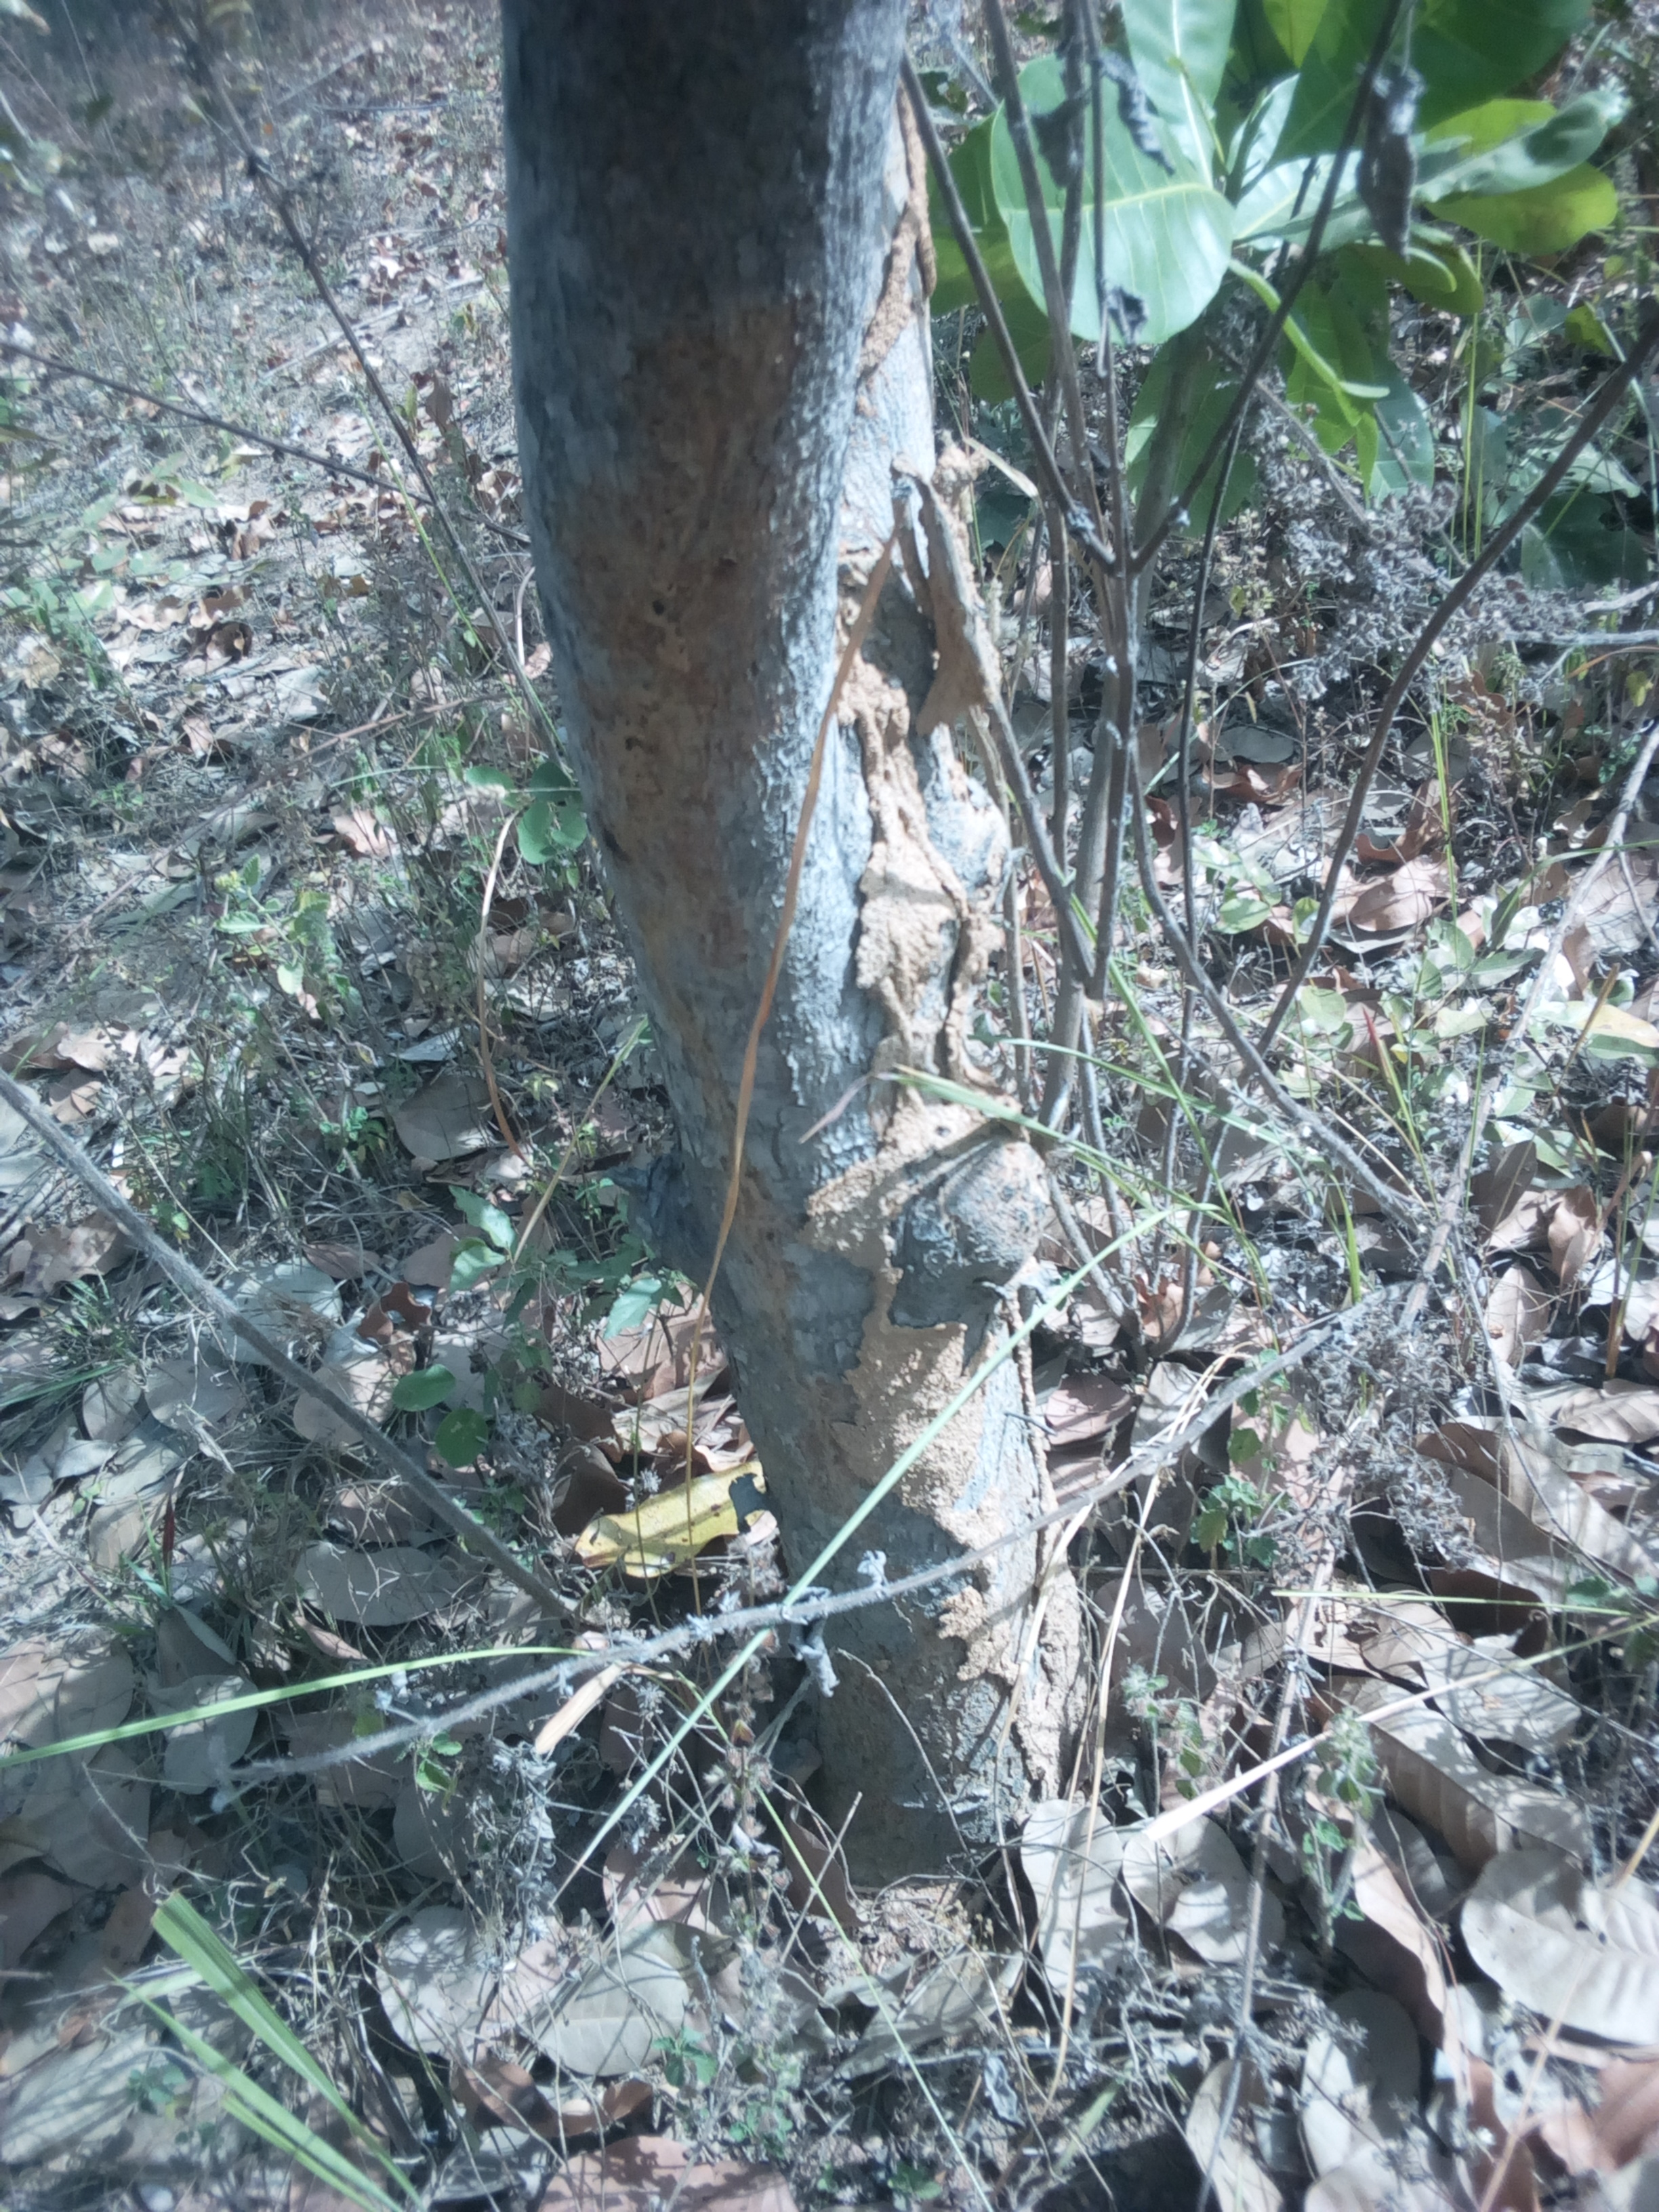Termites: (812, 327, 1037, 1143), (586, 343, 782, 1059), (843, 1313, 1077, 1750)
